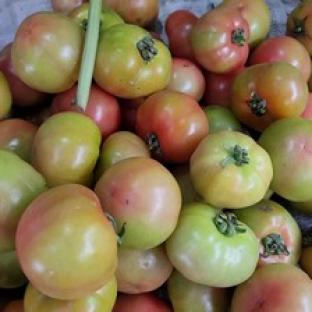Tomato: (16, 184, 116, 299), (95, 158, 182, 249), (166, 202, 259, 286), (190, 130, 272, 208), (12, 12, 84, 93), (94, 23, 171, 98), (230, 62, 307, 132), (136, 90, 208, 162), (31, 112, 101, 186), (0, 150, 45, 252), (234, 200, 302, 266), (258, 117, 311, 201), (51, 84, 121, 140), (190, 6, 249, 72), (230, 264, 311, 311), (24, 276, 116, 311), (0, 42, 47, 107), (248, 35, 311, 80), (95, 131, 150, 181), (116, 244, 172, 293), (166, 269, 231, 311), (166, 58, 206, 101), (202, 66, 243, 107), (0, 117, 37, 162), (165, 9, 197, 61), (169, 163, 200, 203), (0, 250, 27, 292), (112, 293, 172, 311), (204, 105, 242, 133), (0, 72, 12, 121), (101, 7, 123, 30), (299, 246, 311, 278), (301, 91, 311, 119), (3, 299, 25, 311)
